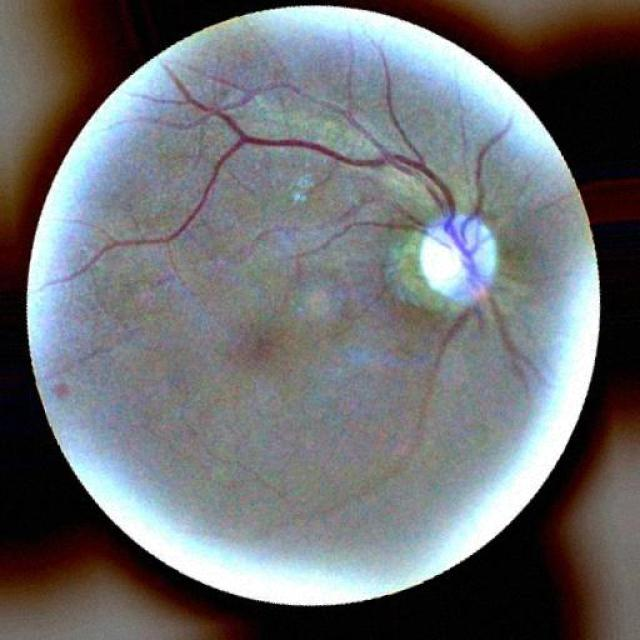Macula: (228, 323, 288, 363)
Nerves: (65, 48, 534, 371)
Optic Disk: (416, 217, 502, 306)
